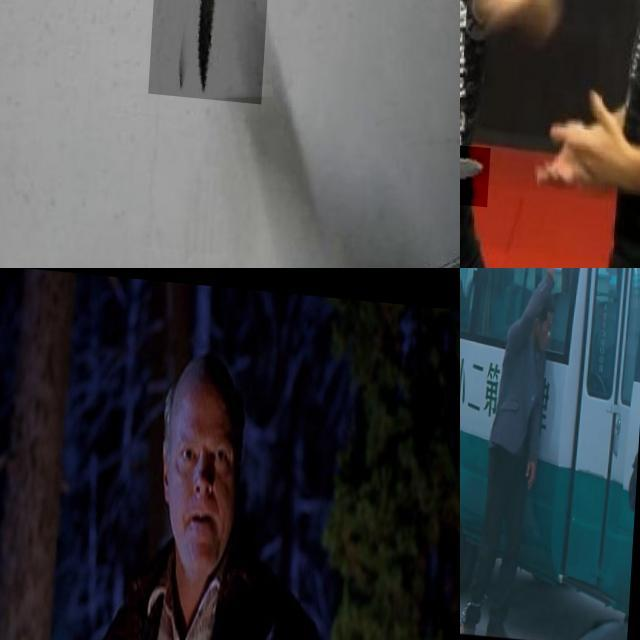-: (153, 0, 284, 196), (460, 135, 512, 202)
gun-knife-thesis - v11 Yolov5 augmented: (460, 353, 509, 429)
